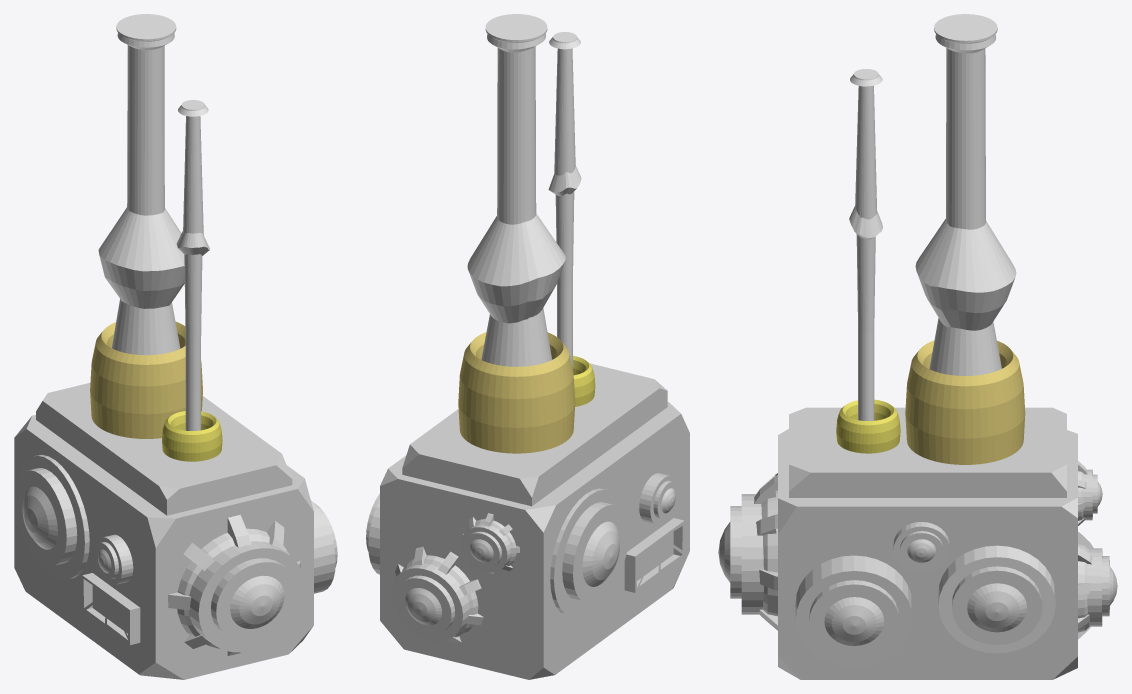
The model's file is Maquina.fbx.
3 renders of one model, left to right at view 1: azimuth 30°, elevation 25°; view 2: azimuth 150°, elevation 25°; view 3: azimuth 270°, elevation 25°, orthographic. The views are drawn at different scales.
Parts seen in each view (by area): view 1: Cubo, Cilindro.028, Cubo.001, Rosca.001, Cilindro.029, Cilindro.005, Cilindro, Cilindro.008, Rosca.002, Cilindro.009, Esfera, Cubo.002 (+7 smaller); view 2: Cubo, Cilindro.028, Cubo.001, Rosca.001, Cilindro.029, Cilindro.008, Cilindro.009, Cubo.002, Cilindro.021, Esfera.003, Cilindro.016, Esfera.006 (+7 smaller); view 3: Cubo, Cilindro.028, Cubo.001, Rosca.001, Cilindro.029, Cilindro.023, Cilindro.027, Cilindro.026, Cilindro.022, Rosca.002, Cilindro.005, Esfera.010 (+6 smaller).
Boxes of the visible parts, box(x1,y1,x2,y2) form: Cubo: box(14, 415, 313, 679); Cilindro.028: box(98, 14, 184, 355); Cubo.001: box(36, 383, 292, 515); Rosca.001: box(90, 321, 202, 438); Cilindro.029: box(176, 100, 209, 430); Cilindro.005: box(188, 541, 305, 652); Cilindro: box(211, 558, 298, 642); Cilindro.008: box(14, 468, 77, 565); Rosca.002: box(162, 411, 222, 461); Cilindro.009: box(18, 455, 89, 579); Esfera: box(230, 575, 284, 628); Cubo.002: box(82, 573, 140, 644); Cubo: box(380, 402, 689, 679); Cilindro.028: box(467, 14, 565, 366); Cubo.001: box(402, 363, 667, 506); Rosca.001: box(458, 332, 575, 453); Cilindro.029: box(548, 32, 581, 369); Cilindro.008: box(562, 502, 628, 603); Cilindro.009: box(550, 488, 625, 617); Cubo.002: box(624, 518, 684, 592); Cilindro.021: box(390, 563, 470, 641); Esfera.003: box(582, 521, 619, 586); Cilindro.016: box(395, 575, 454, 634); Esfera.006: box(405, 588, 441, 625); Cubo: box(778, 429, 1077, 679); Cilindro.028: box(915, 14, 1016, 375); Cubo.001: box(789, 407, 1066, 497); Rosca.001: box(905, 340, 1025, 464); Cilindro.029: box(849, 69, 882, 420); Cilindro.023: box(795, 555, 912, 666); Cilindro.027: box(938, 545, 1055, 653); Cilindro.026: box(952, 566, 1042, 644); Cilindro.022: box(809, 580, 899, 658); Rosca.002: box(836, 399, 900, 453); Cilindro.005: box(741, 494, 763, 614); Esfera.010: box(967, 583, 1026, 632).
Size of the model in its own units: 161 by 385 by 228.
